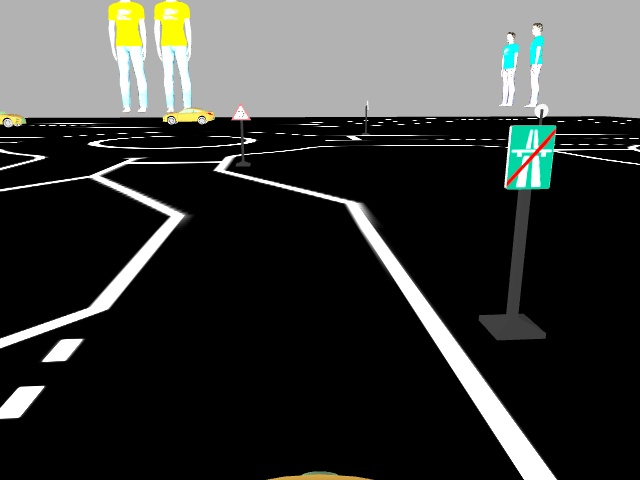HighwayExit: (503, 124, 558, 188)
